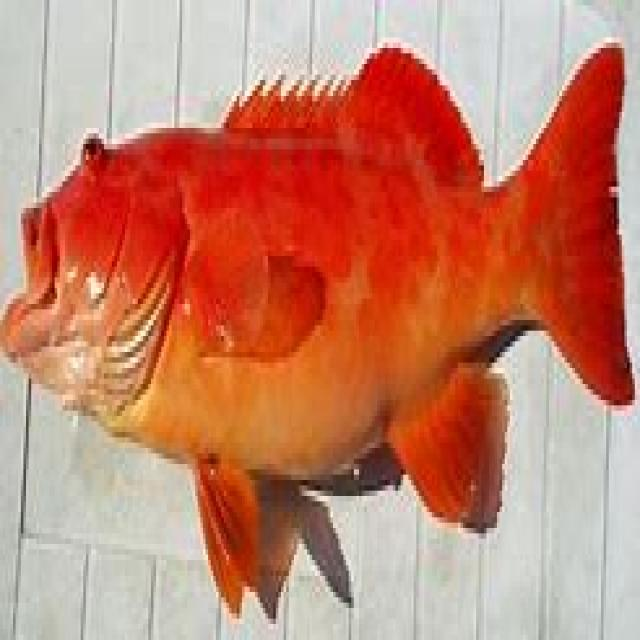Plectropomus-leopardus: (0, 57, 640, 579)
